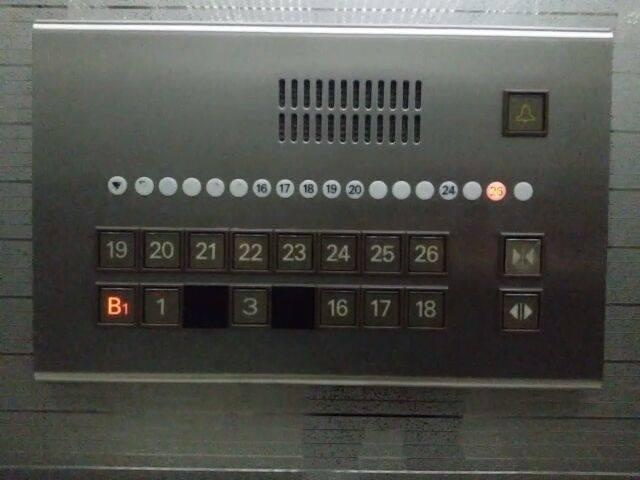1: (142, 287, 182, 326)
16: (320, 289, 355, 327), (248, 176, 274, 200)
17: (363, 289, 401, 326), (272, 177, 296, 202)
18: (405, 289, 446, 328), (296, 178, 319, 202)
19: (96, 228, 136, 269), (318, 177, 343, 201)
20: (140, 231, 180, 272), (342, 178, 367, 204)
21: (186, 232, 226, 269)
22: (230, 231, 271, 270)
23: (273, 232, 314, 272)
24: (319, 234, 358, 272), (435, 179, 460, 203)
25: (361, 234, 402, 273)
26: (406, 233, 447, 275), (484, 179, 507, 202)
3: (232, 288, 269, 326)
B1: (97, 286, 138, 325)
alarm: (502, 90, 549, 137)
blur: (225, 176, 250, 199), (133, 176, 156, 199), (180, 176, 203, 199), (204, 176, 225, 198), (158, 176, 178, 199)
close: (501, 232, 542, 279)
down: (106, 175, 128, 196)
empty: (180, 285, 229, 328), (270, 285, 315, 329), (509, 179, 536, 204), (459, 179, 485, 204), (366, 177, 389, 204), (389, 178, 413, 202), (412, 179, 436, 203)
open: (501, 291, 542, 332)
